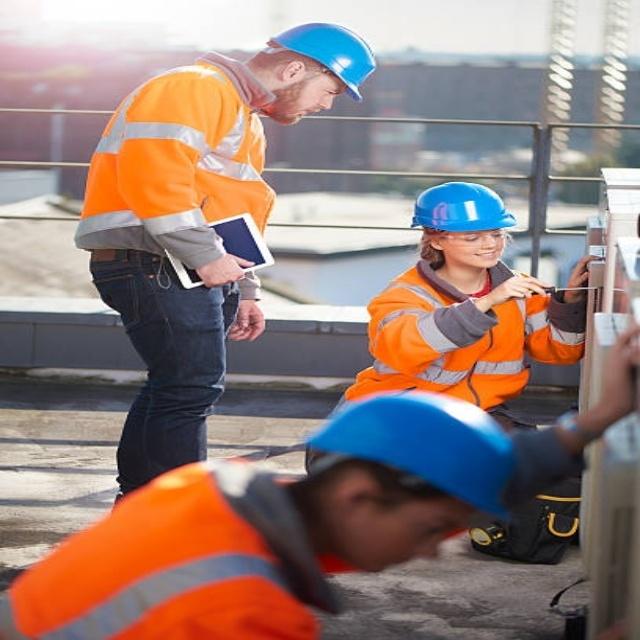Gafas: (433, 231, 510, 247)
Sin_gafas: (304, 77, 340, 102)
Sin_guantes: (194, 252, 256, 289), (482, 277, 547, 305), (234, 294, 267, 345)
Sin_mascara: (282, 107, 323, 122), (461, 250, 500, 264)
